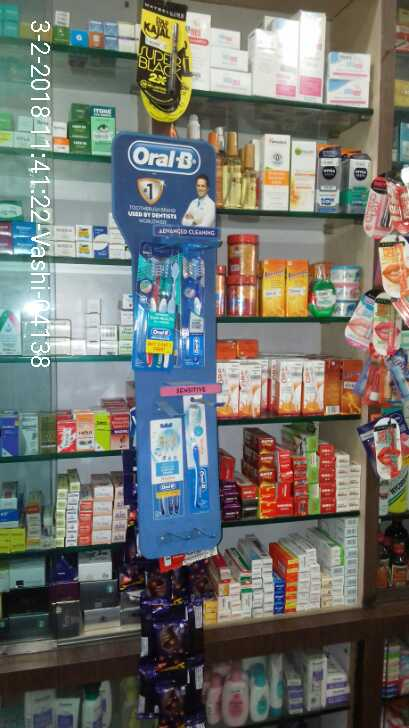oralb: (134, 246, 177, 368), (181, 246, 215, 367), (185, 404, 216, 505)
